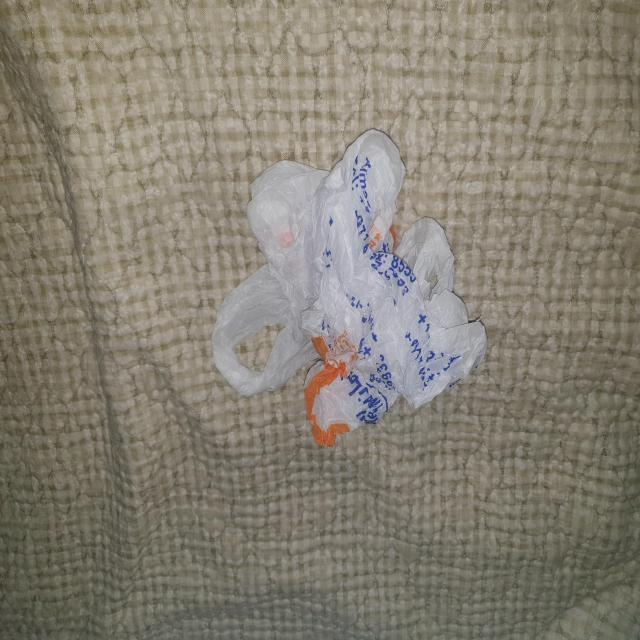plastic bag: (209, 128, 489, 448)
